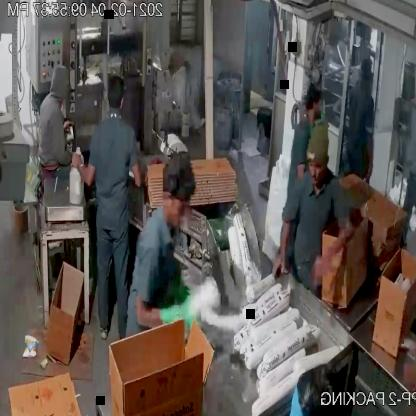glove: (152, 286, 205, 340)
no_glove: (312, 220, 354, 288), (67, 140, 104, 198), (265, 210, 291, 288), (127, 158, 144, 196)
